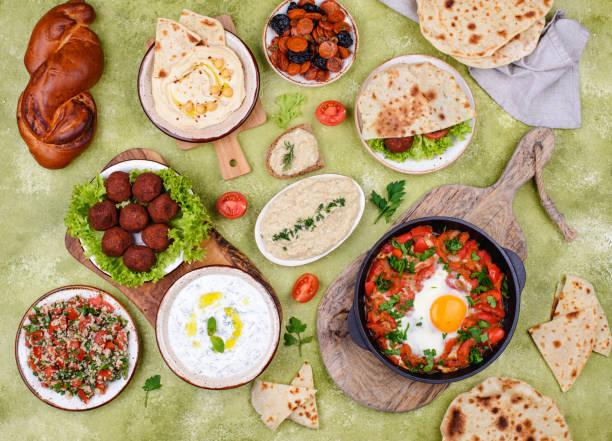Braised Crucian Carp: (356, 217, 523, 383), (17, 288, 141, 411), (136, 25, 260, 145), (76, 161, 200, 280), (354, 53, 474, 173), (159, 267, 277, 386), (254, 174, 363, 267), (262, 0, 358, 87)
